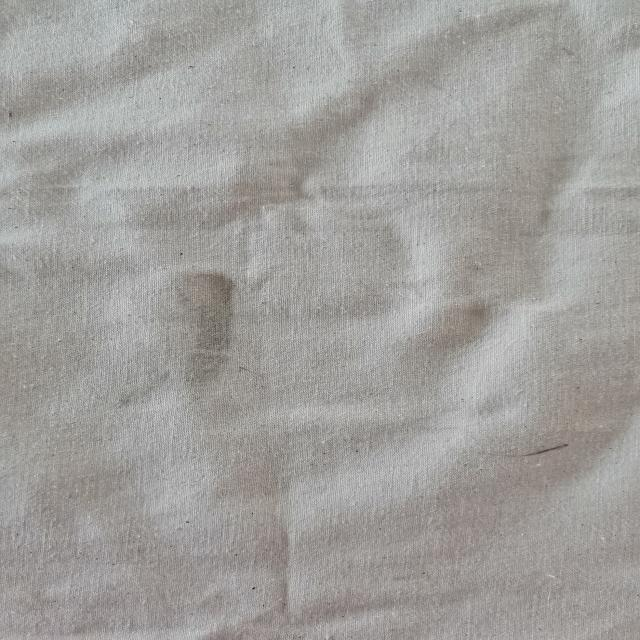taaaches: (170, 272, 236, 386), (473, 443, 578, 463), (111, 394, 149, 411), (240, 364, 266, 381)
